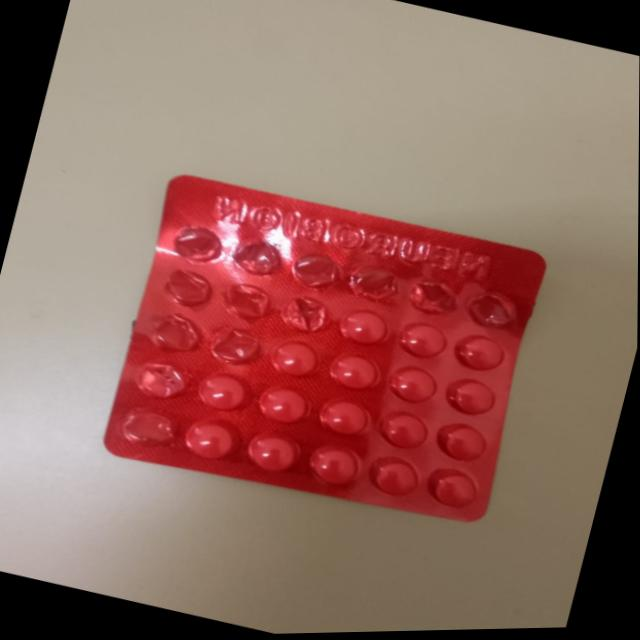medicine: (62, 141, 583, 550)
